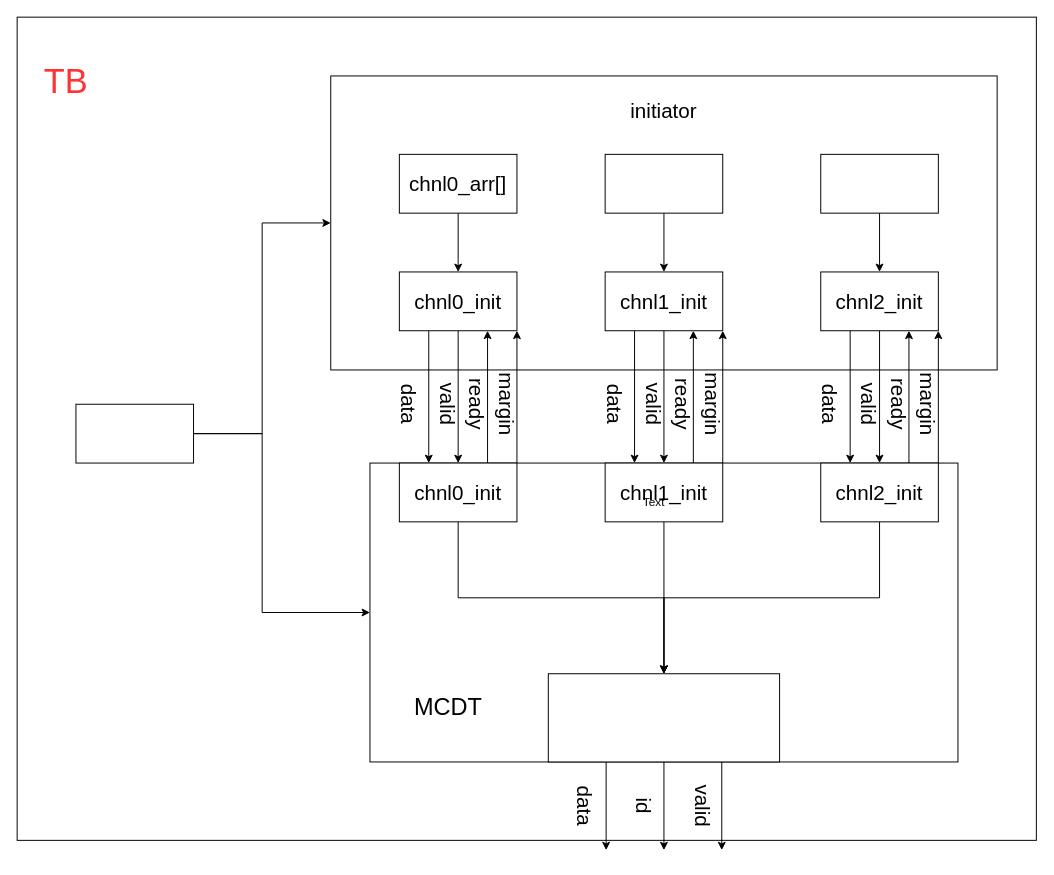
The diagram is 1054 pixels wide and 875 high, and some of its shapes have lost their labels. Each missing label, with the box of its shape:
Arbiter: (547, 673, 780, 762)
chnl1_arr[]: (604, 153, 723, 213)
chnl2_arr[]: (820, 153, 938, 213)
clk/rstn: (75, 403, 194, 463)
